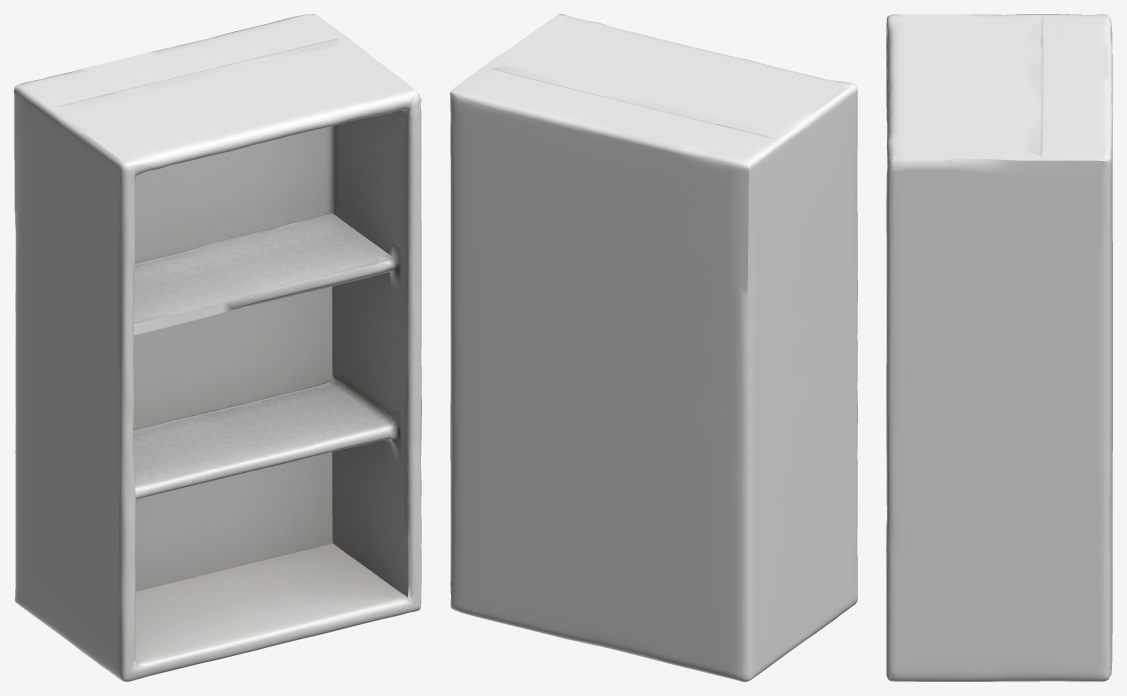
The model's file is Empty_Shelves_0718065148_texture.fbx.
3 views of the same model, side by side, from view 1: azimuth 30°, elevation 25°; view 2: azimuth 150°, elevation 25°; view 3: azimuth 270°, elevation 25° (orthographic).
Visible parts, largest first — view 1: Mesh0; view 2: Mesh0; view 3: Mesh0.
Boxes of the visible parts, box(x1,y1,x2,y2) form: Mesh0: box(14, 14, 421, 681); Mesh0: box(450, 14, 857, 681); Mesh0: box(886, 14, 1112, 681).
Bounding box in the file's own units: 121 × 200 × 78.59.
Materials: 1 (1 with a texture image).
